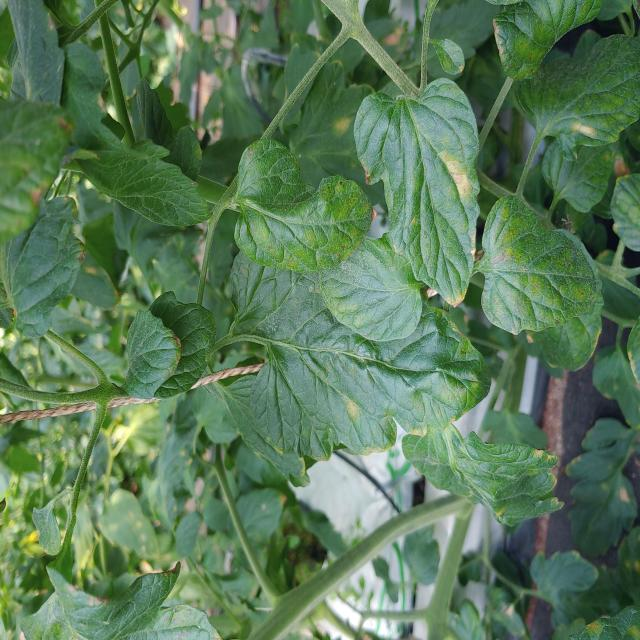Leaf Mold: (230, 249, 493, 463), (355, 77, 482, 309), (234, 140, 373, 275), (484, 195, 606, 336), (519, 30, 640, 163), (564, 417, 639, 559)
